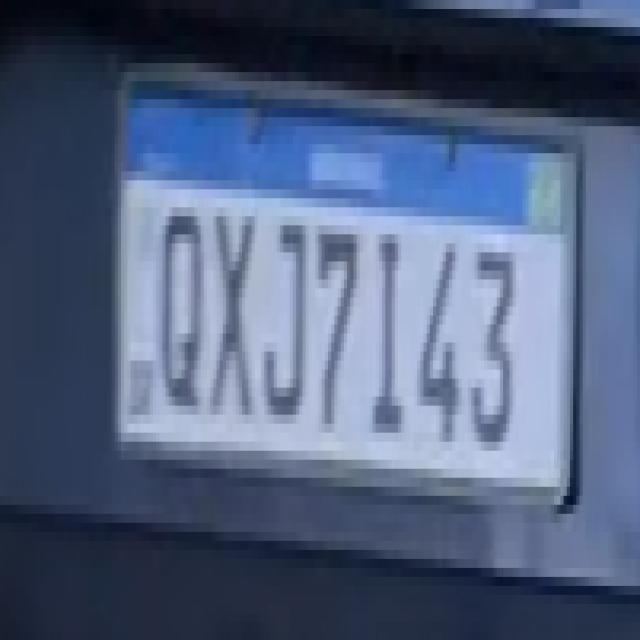Placa_mercosul_carro: (115, 56, 579, 507)
